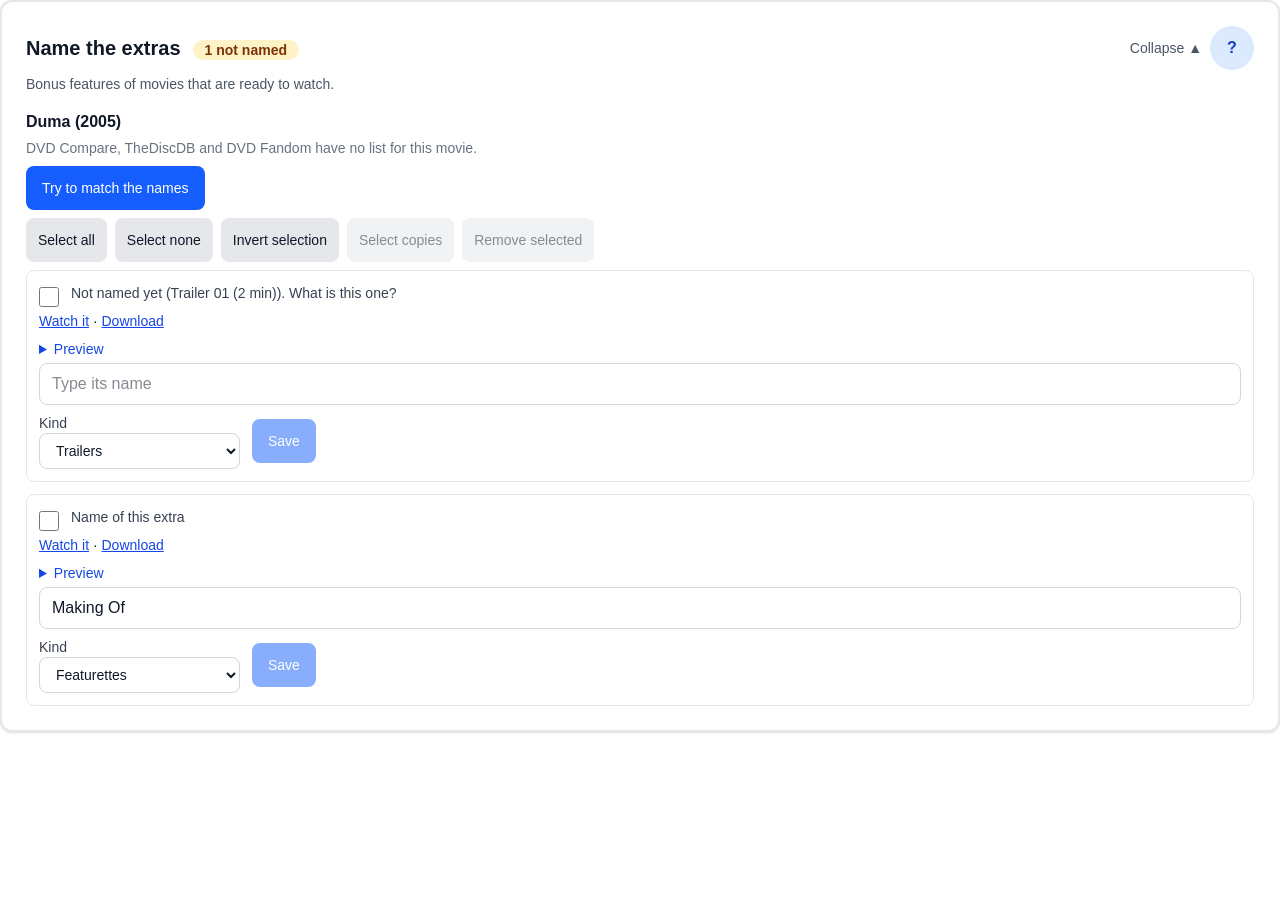
Scenario: the "Name the extras" section › Remove selected needs a selection, asks first, and then moves just those
Check: the button "Remove selected" is disabled, box x1=462 y1=218 x2=594 y2=262
What coordinates should you click on to do the following:
click the checkbox named "Select the extra Trailer 01 (2 min) in Duma (2005)"
I would click on:
 (49, 297)
Its box is x1=39 y1=287 x2=59 y2=307.
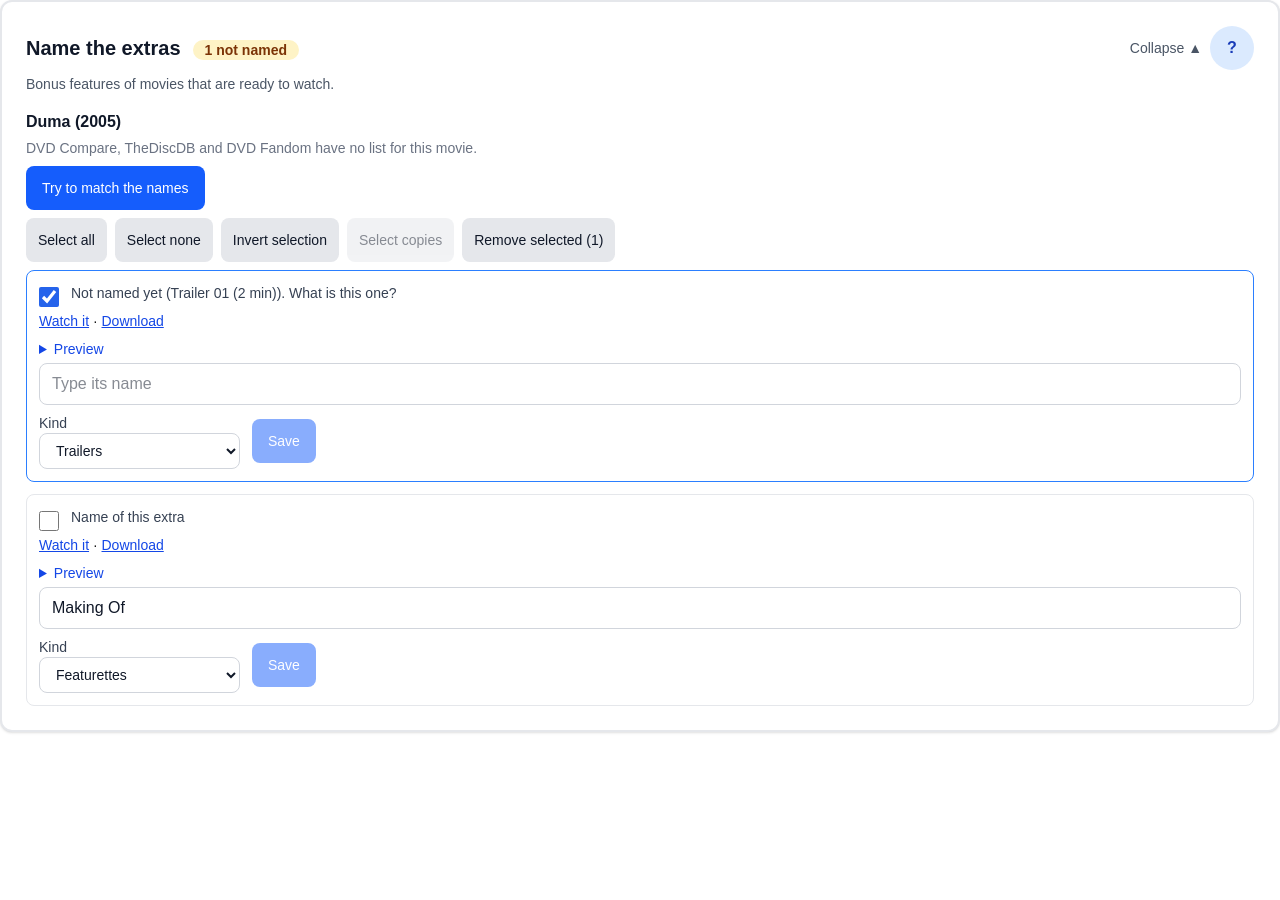
What coordinates should you click on to do the following:
click the button "Remove selected (1)"
I would click on:
 (539, 240)
Its box is x1=462 y1=218 x2=615 y2=262.
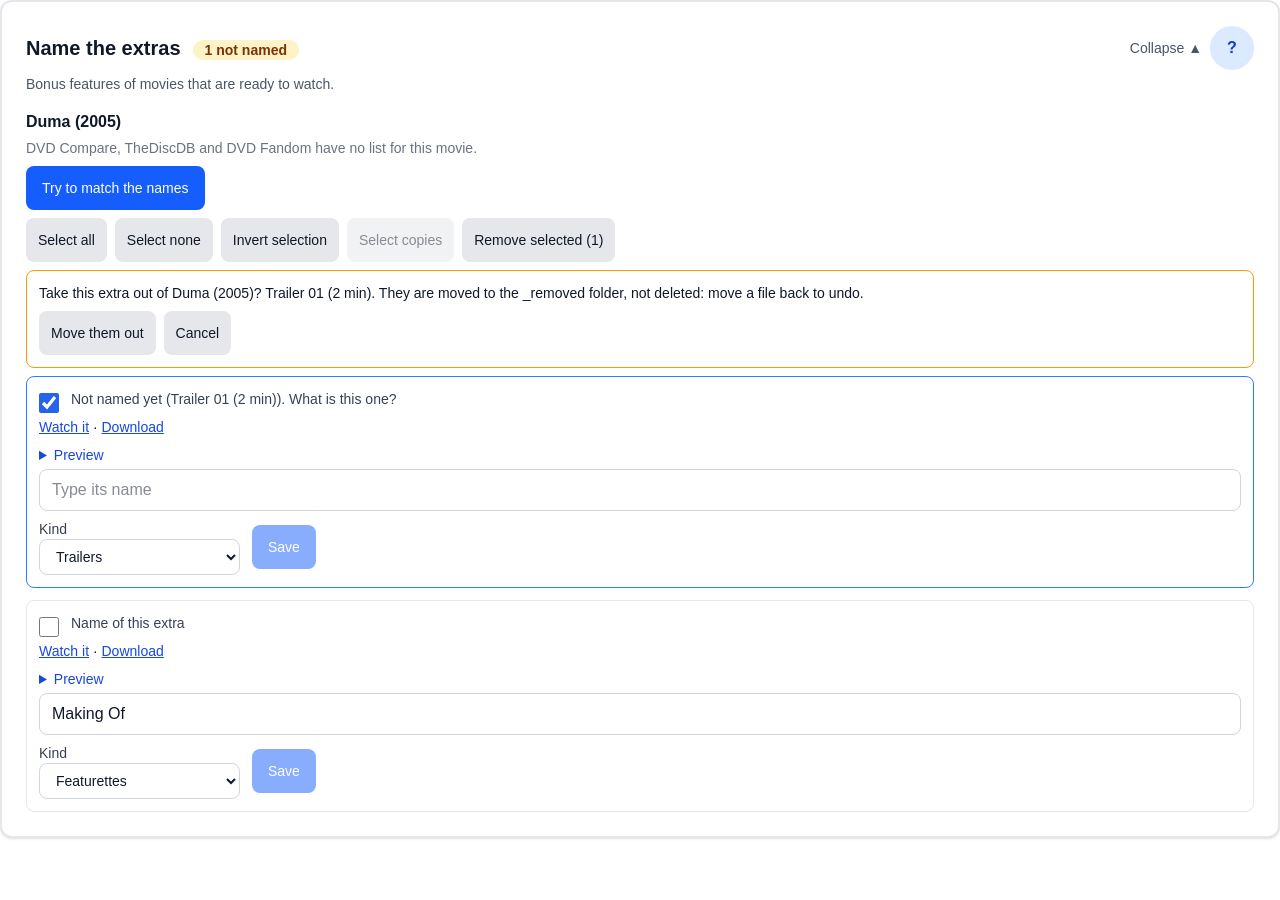
Check: the dialog shows "Trailer 01 (2 min)", box x1=265 y1=285 x2=371 y2=301
Check: the dialog shows "not deleted", box x1=371 y1=285 x2=864 y2=301
What coordinates should you click on to do the following:
click the button "Move them out"
I would click on:
 (97, 333)
Its box is x1=39 y1=311 x2=156 y2=355.
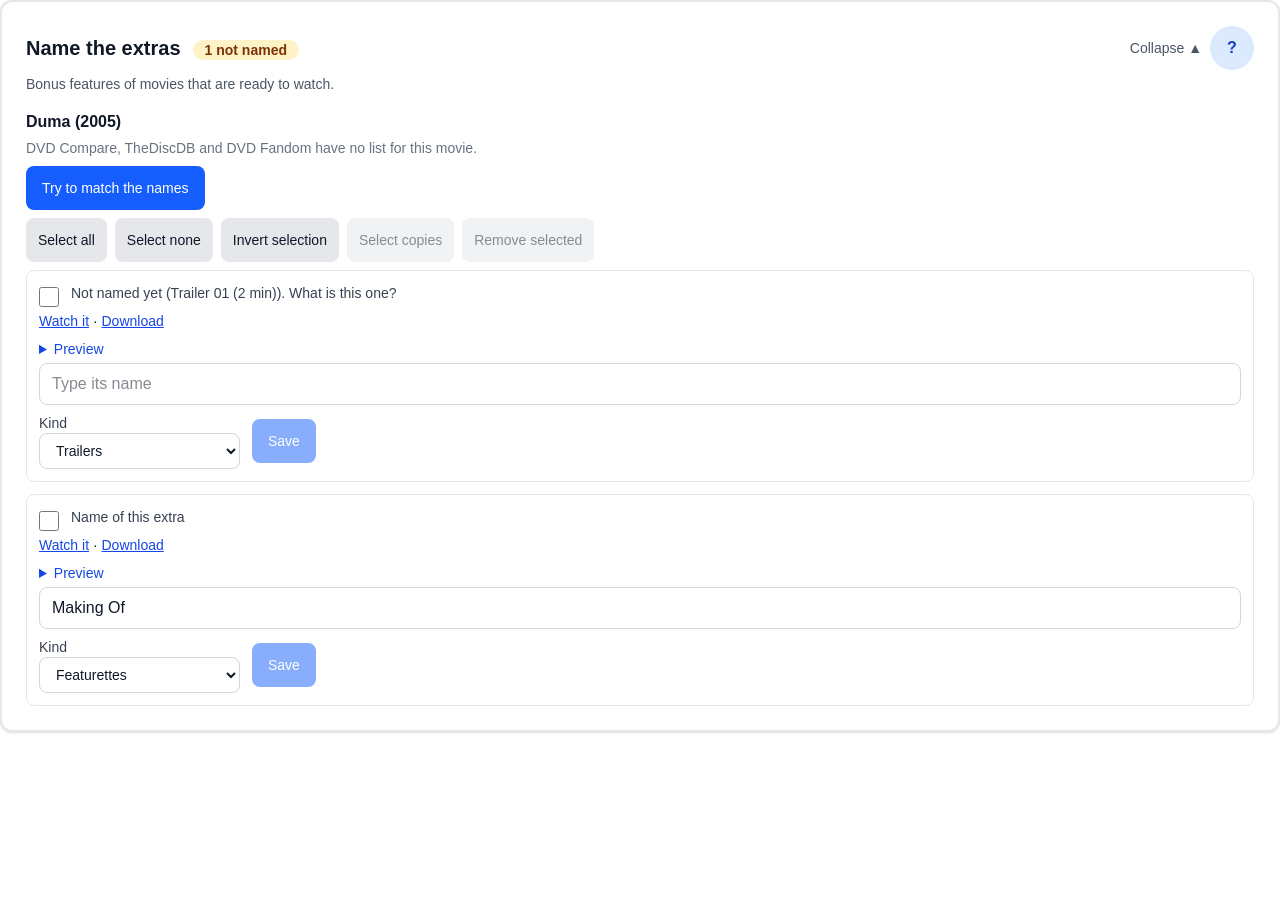
Check: the dialog is gone
